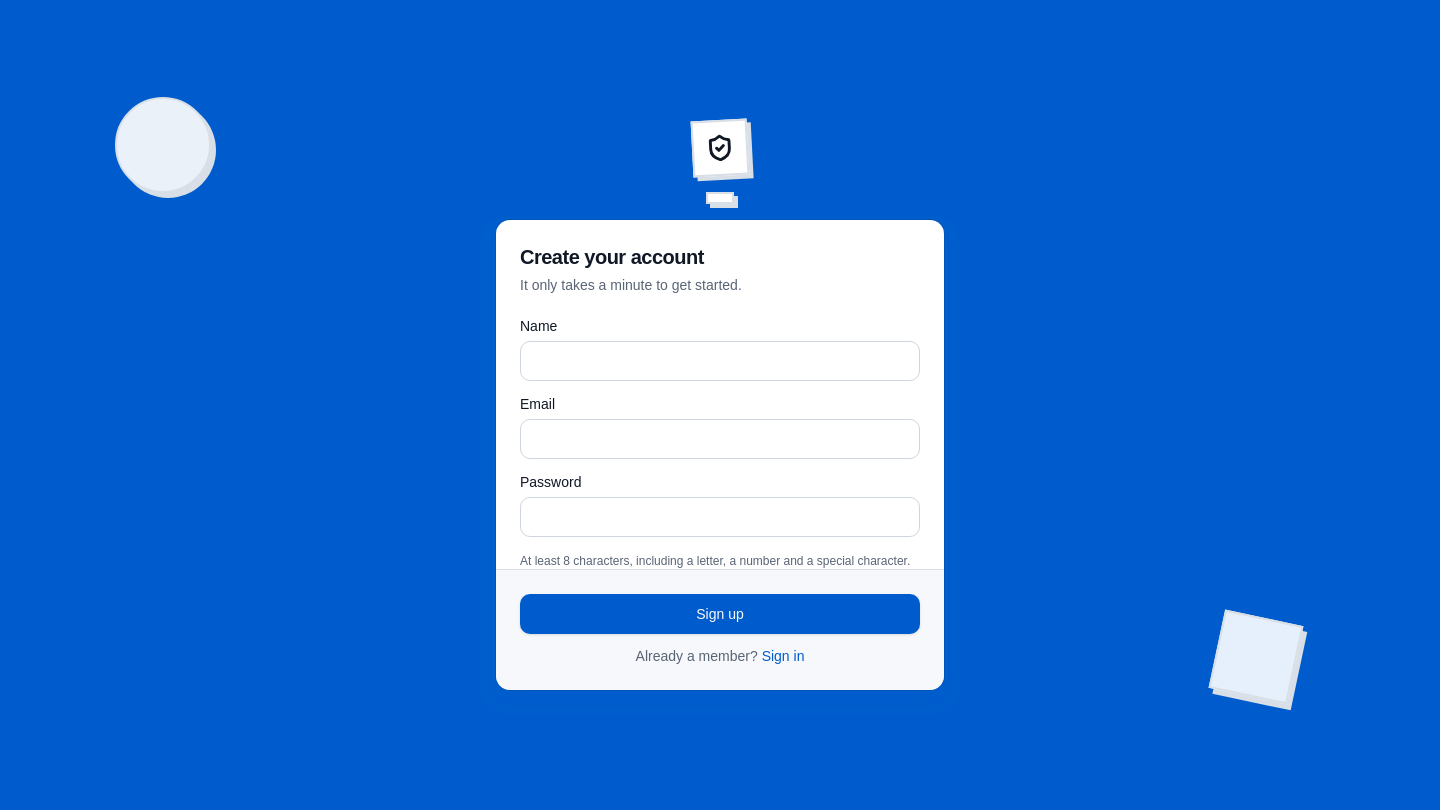
routing › shows validation errors on the sign up form
The width and height of the screenshot is (1440, 810).
Type "ab" into the field labelled "Name" at [720, 361], box [520, 341, 920, 381]
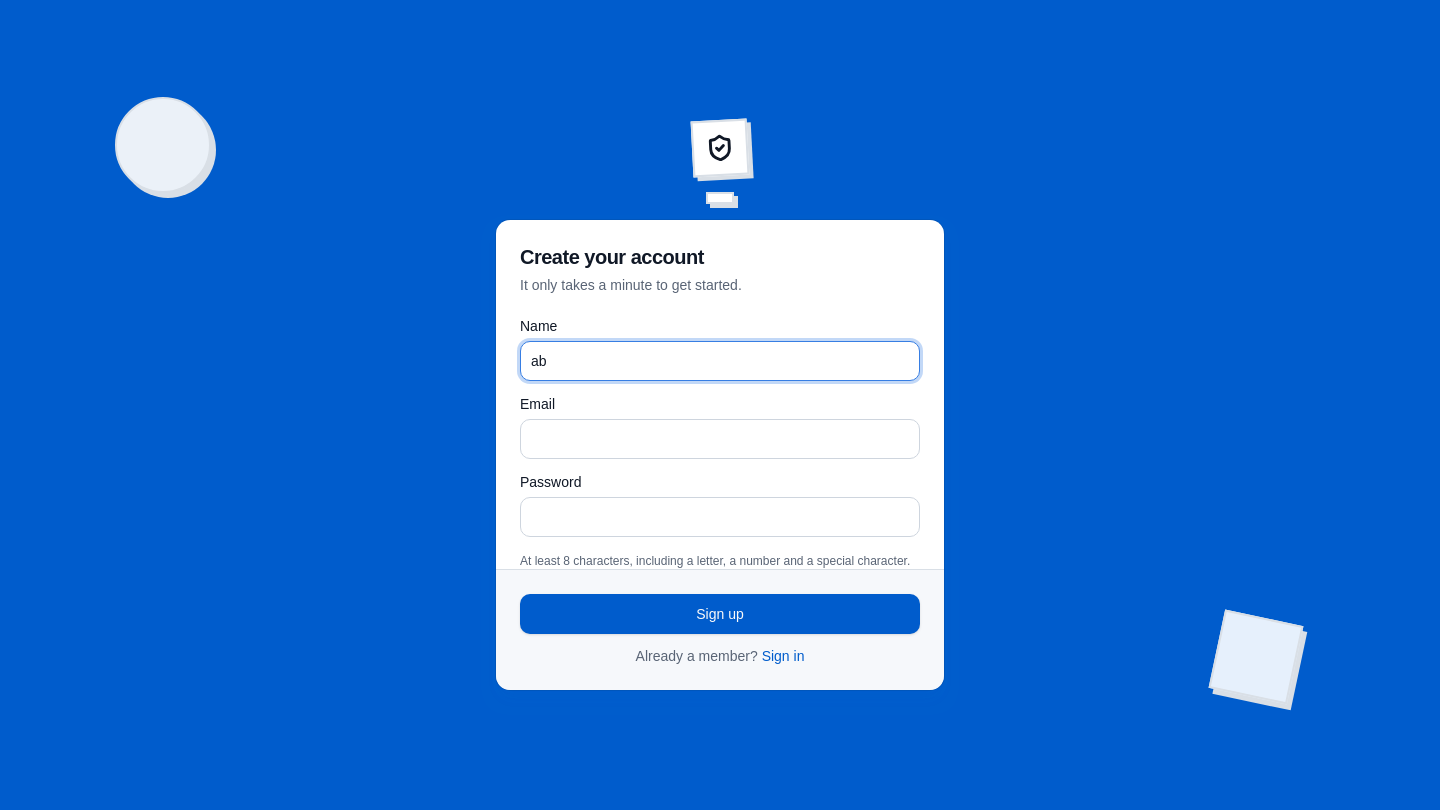
Type "weak" into the password field labelled "Password" at [720, 517], box [520, 497, 920, 537]
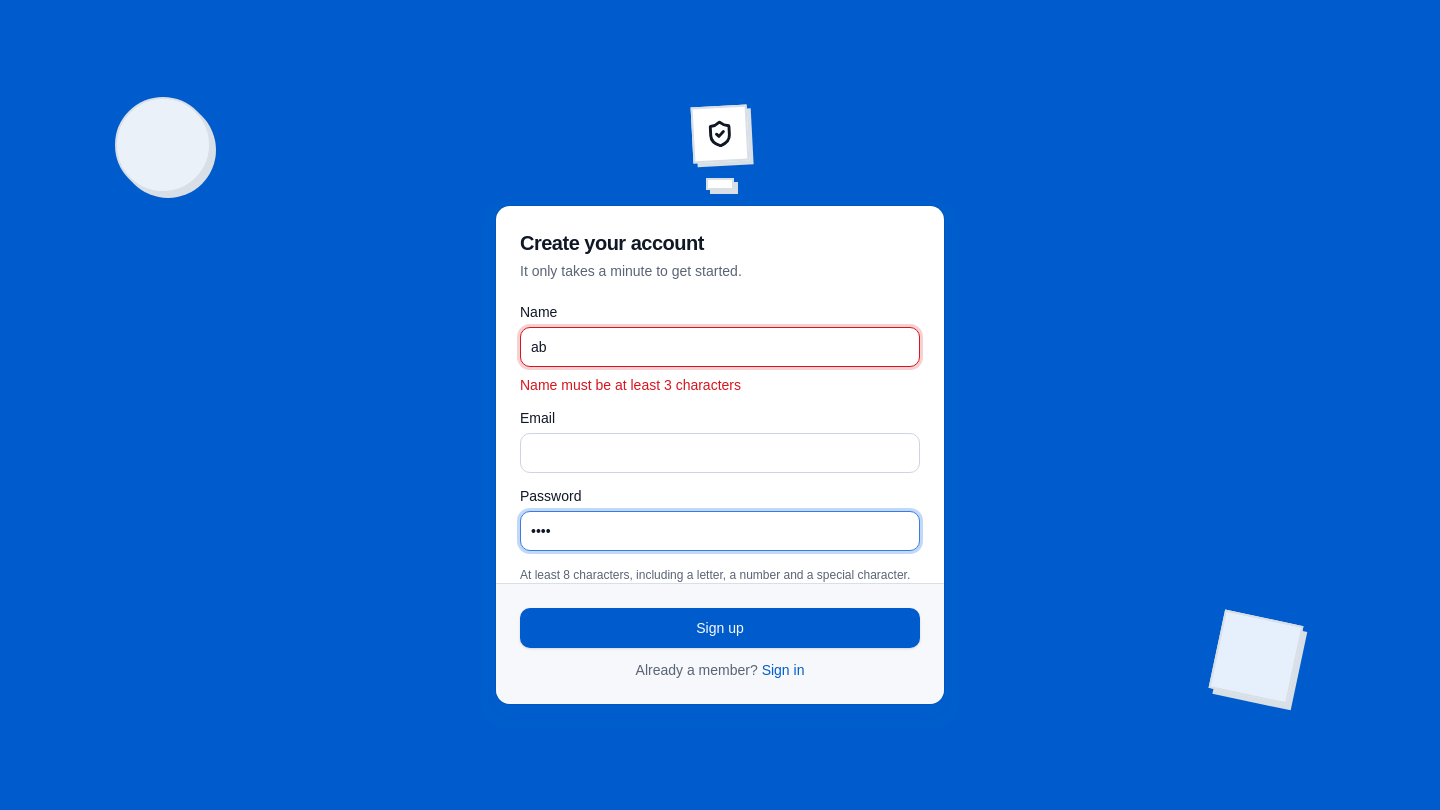
Click the button "Sign up" at [720, 628], box [520, 608, 920, 648]
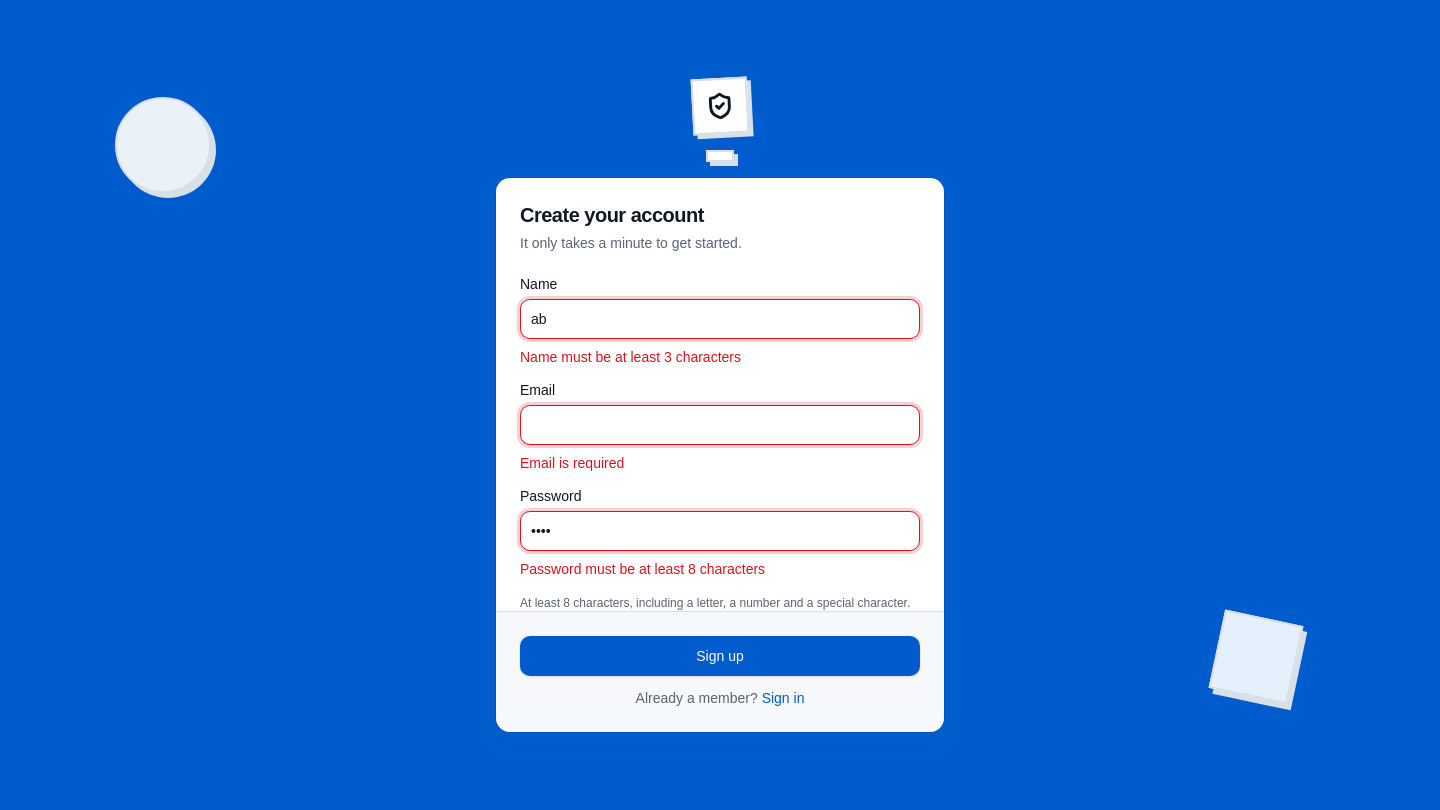
Now the text "Name must be at least 3 characters" is shown, box [520, 349, 741, 365]
Now the text "Email is required" is shown, box [520, 455, 624, 471]
Now the text "Password must be at least 8 characters" is shown, box [520, 561, 765, 577]
